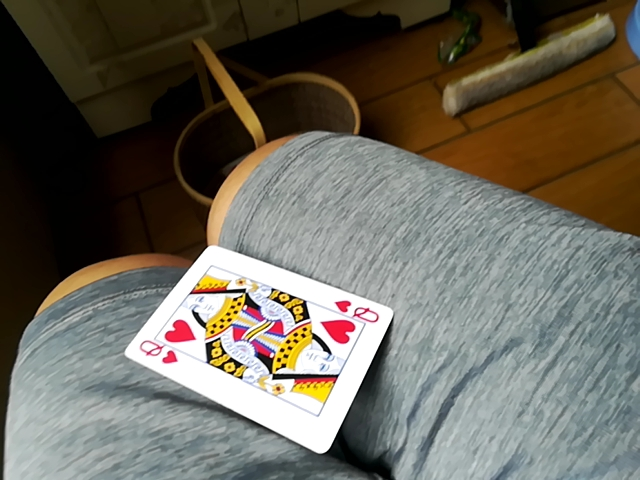hx q: (126, 241, 394, 453)
